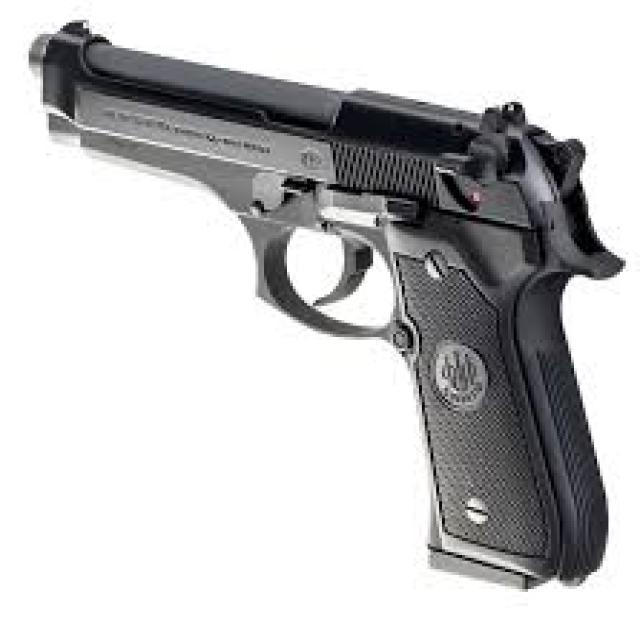pistol: (23, 14, 623, 607)
